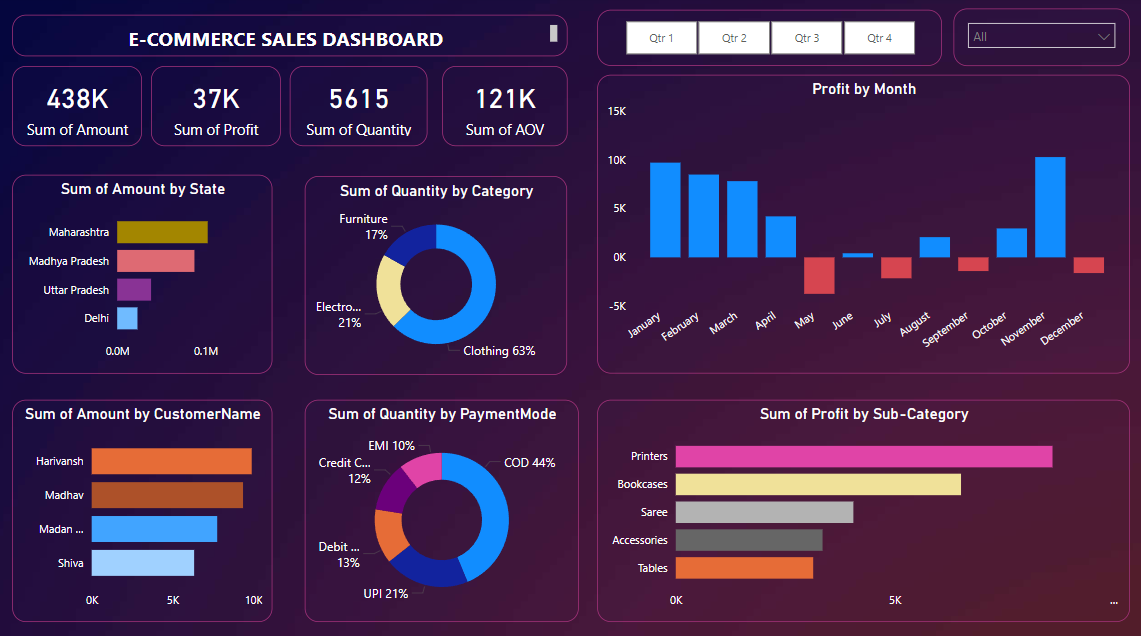

Layout of this report page (visuals, bound fields, positions):
{"tool":"powerbi","page":{"name":"Page 1","canvas":[1280,720],"ordinal":0},"visuals":[{"type":"columnChart","title":" Profit by Month","fields":{"Y":["Details.Profit"],"Category":["Orders.Order Date.Variation.Date Hierarchy.Month"]},"box":[660,86.4,584.6,328],"z":0},{"type":"barChart","fields":{"Category":["Details.Sub-Category"],"Y":["Details.Profit"]},"box":[660,443.2,584.6,244.3],"z":1000},{"type":"donutChart","fields":{"Category":["Details.Category"],"Y":["Details.Quantity"]},"box":[338.9,197.6,288.2,218.2],"z":2000},{"type":"donutChart","fields":{"Y":["Details.Quantity"],"Category":["Details.PaymentMode"]},"box":[338.9,443.2,300.5,244.3],"z":3000},{"type":"card","fields":{"Values":["Details.Amount"]},"box":[17.8,76.8,142.7,87.8],"z":4000},{"type":"card","fields":{"Values":["Details.Profit"]},"box":[170.2,76.8,142.7,87.8],"z":5000},{"type":"card","fields":{"Values":["Details.Quantity"]},"box":[322.5,76.8,150.9,87.8],"z":6000},{"type":"card","fields":{"Values":["Details.AOV"]},"box":[489.9,76.8,137.2,87.8],"z":7000},{"type":"barChart","fields":{"Category":["Orders.State"],"Y":["Details.Amount"]},"box":[17.8,196.2,285.4,218.2],"z":8000},{"type":"barChart","fields":{"Category":["Orders.CustomerName"],"Y":["Details.Amount"]},"box":[17.8,443.2,285.4,244.3],"z":9000},{"type":"slicer","fields":{"Values":["Orders.State"]},"box":[1051.1,13.7,193.5,63.1],"z":10000},{"type":"slicer","fields":{"Values":["Orders.Order Date.Variation.Date Hierarchy.Quarter"]},"box":[660,15.1,378.7,61.7],"z":11000},{"type":"textbox","box":[17.8,20.6,609.3,45.3],"z":12000}]}

Visuals, with their boxes in screenshot pixels (x1, y1, x2, y2), scaled from the page's 1280x720 canvas onto the 1141x636 screenshot:
" Profit by Month" columnChart: locate(588, 76, 1109, 366)
barChart - Details.Sub-Category x Details.Profit: locate(588, 391, 1109, 607)
donutChart - Details.Category x Details.Quantity: locate(302, 175, 559, 367)
donutChart - Details.Quantity x Details.PaymentMode: locate(302, 391, 570, 607)
card - Details.Amount: locate(16, 68, 143, 145)
card - Details.Profit: locate(152, 68, 279, 145)
card - Details.Quantity: locate(287, 68, 422, 145)
card - Details.AOV: locate(437, 68, 559, 145)
barChart - Orders.State x Details.Amount: locate(16, 173, 270, 366)
barChart - Orders.CustomerName x Details.Amount: locate(16, 391, 270, 607)
slicer - Orders.State: locate(937, 12, 1109, 68)
slicer - Orders.Order Date.Variation.Date Hierarchy.Quarter: locate(588, 13, 926, 68)
textbox: locate(16, 18, 559, 58)
